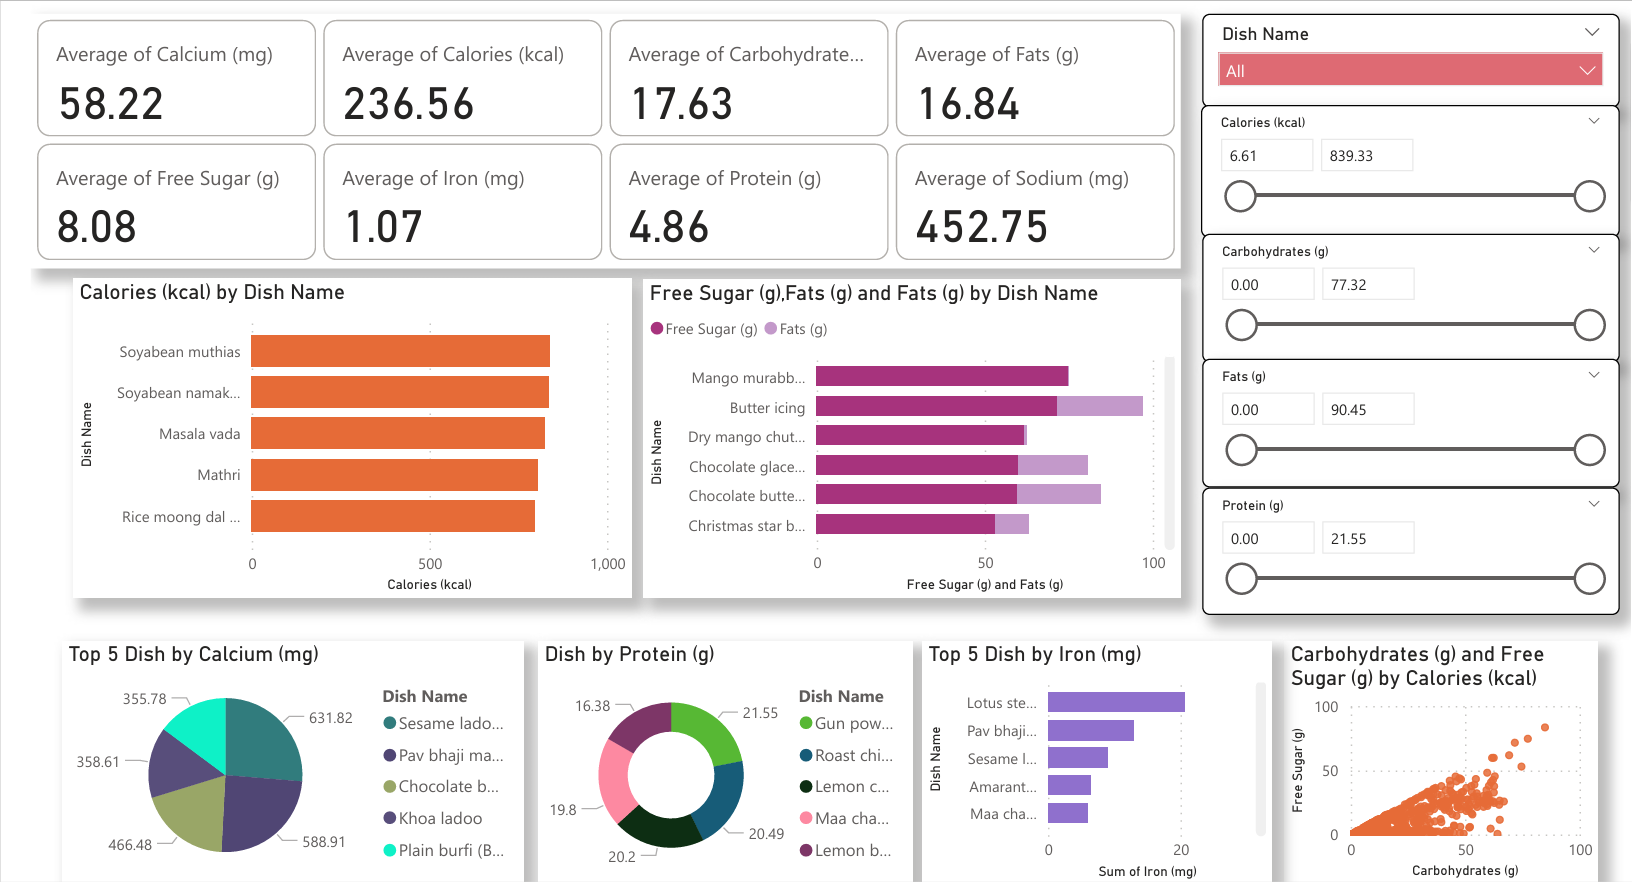

What the dashboard file says about the page in this screenshot:
{"tool":"powerbi","page":{"name":"Page 1","canvas":[1280,720],"ordinal":0},"visuals":[{"type":"slicer","fields":{"Values":["Indian_Food_Nutrition_Processed.Dish Name"]},"box":[937.1,10.9,334.1,74.8],"z":0,"group":"g1"},{"type":"cardVisual","fields":{"Data":["Avg(Indian_Food_Nutrition_Processed.Calcium (mg))","Avg(Indian_Food_Nutrition_Processed.Calories (kcal))","Avg(Indian_Food_Nutrition_Processed.Carbohydrates (g))","Avg(Indian_Food_Nutrition_Processed.Fats (g))","Avg(Indian_Food_Nutrition_Processed.Free Sugar (g))","Avg(Indian_Food_Nutrition_Processed.Iron (mg))","Avg(Indian_Food_Nutrition_Processed.Protein (g))","Avg(Indian_Food_Nutrition_Processed.Sodium (mg))"]},"box":[0,10.9,920.2,203.8],"z":0},{"type":"slicer","fields":{"Values":["Indian_Food_Nutrition_Processed.Calories (kcal)"]},"box":[935.8,83.4,335.3,106.1],"z":1000,"group":"g1"},{"type":"slicer","fields":{"Values":["Indian_Food_Nutrition_Processed.Carbohydrates (g)"]},"box":[937.1,187,334.1,102.5],"z":2000,"group":"g1"},{"type":"barChart","title":"Calories (kcal) by Dish Name","fields":{"Category":["Indian_Food_Nutrition_Processed.Dish Name"],"Y":["Sum(Indian_Food_Nutrition_Processed.Calories (kcal))"]},"box":[33.8,223.1,447.4,255.7],"z":2000},{"type":"barChart","title":"Free Sugar (g),Fats (g) and  Fats (g) by Dish Name","fields":{"Category":["Indian_Food_Nutrition_Processed.Dish Name"],"Y":["Sum(Indian_Food_Nutrition_Processed.Free Sugar (g))","Sum(Indian_Food_Nutrition_Processed.Fats (g))"]},"box":[489.6,224.3,430.6,254.5],"z":3000},{"type":"slicer","fields":{"Values":["Indian_Food_Nutrition_Processed.Fats (g)"]},"box":[937.1,287.1,334.1,102.5],"z":3000,"group":"g1"},{"type":"slicer","fields":{"Values":["Indian_Food_Nutrition_Processed.Protein (g)"]},"box":[937.1,389.6,334.1,102.5],"z":4000,"group":"g1"},{"type":"scatterChart","title":"Carbohydrates (g) and Free Sugar (g) by Calories (kcal)","fields":{"X":["Sum(Indian_Food_Nutrition_Processed.Carbohydrates (g))"],"Y":["Sum(Indian_Food_Nutrition_Processed.Free Sugar (g))"],"Category":["Indian_Food_Nutrition_Processed.Calories (kcal)"]},"box":[1003.4,512.6,250.9,195.4],"z":4000},{"type":"pieChart","title":"Top 5 Dish by Calcium (mg) ","fields":{"Category":["Indian_Food_Nutrition_Processed.Dish Name"],"Y":["Sum(Indian_Food_Nutrition_Processed.Calcium (mg))"]},"box":[25.3,512.6,369,195.4],"z":5000},{"type":"donutChart","title":"Dish by Protein (g) ","fields":{"Y":["Sum(Indian_Food_Nutrition_Processed.Protein (g))"],"Category":["Indian_Food_Nutrition_Processed.Dish Name"]},"box":[406.4,512.6,299.1,195.4],"z":6000},{"type":"barChart","title":"Top 5 Dish by  Iron (mg) ","fields":{"Category":["Indian_Food_Nutrition_Processed.Dish Name"],"Y":["Sum(Indian_Food_Nutrition_Processed.Iron (mg))"]},"box":[712.8,512.6,279.8,195.4],"z":7000},{"type":"group","id":"g1","title":"Group 1","box":[935.8,10.9,335.4,481.2],"z":10002}]}

Visuals, with their boxes in screenshot pixels (x1, y1, x2, y2):
slicer - Indian_Food_Nutrition_Processed.Dish Name: Rect(1202, 14, 1621, 108)
cardVisual - Avg(Indian_Food_Nutrition_Processed.Calcium (mg)) x Avg(Indian_Food_Nutrition_Processed.Calories (kcal)): Rect(26, 14, 1181, 270)
slicer - Indian_Food_Nutrition_Processed.Calories (kcal): Rect(1200, 105, 1621, 238)
slicer - Indian_Food_Nutrition_Processed.Carbohydrates (g): Rect(1202, 235, 1621, 363)
"Calories (kcal) by Dish Name" barChart: Rect(68, 280, 630, 601)
"Free Sugar (g),Fats (g) and  Fats (g) by Dish Name" barChart: Rect(640, 282, 1181, 601)
slicer - Indian_Food_Nutrition_Processed.Fats (g): Rect(1202, 360, 1621, 489)
slicer - Indian_Food_Nutrition_Processed.Protein (g): Rect(1202, 489, 1621, 618)
"Carbohydrates (g) and Free Sugar (g) by Calories (kcal)" scatterChart: Rect(1285, 643, 1600, 881)
"Top 5 Dish by Calcium (mg) " pieChart: Rect(57, 643, 521, 881)
"Dish by Protein (g) " donutChart: Rect(536, 643, 911, 881)
"Top 5 Dish by  Iron (mg) " barChart: Rect(920, 643, 1272, 881)
"Group 1" group: Rect(1200, 14, 1621, 618)
